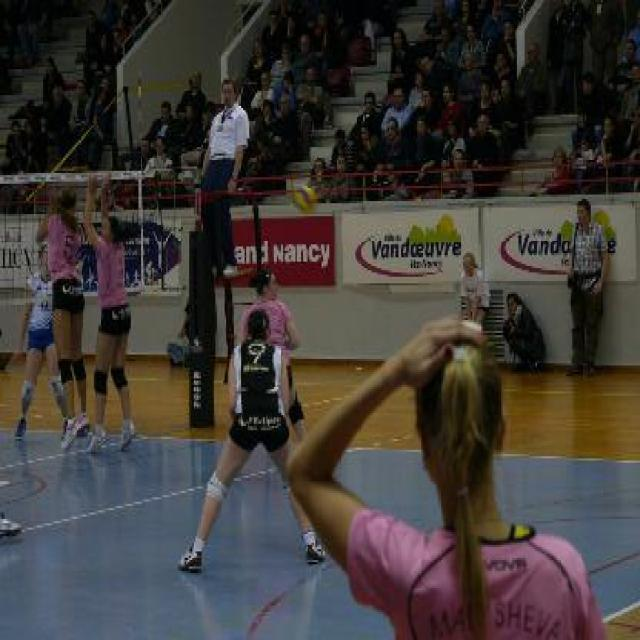volleyball: (292, 186, 318, 217)
